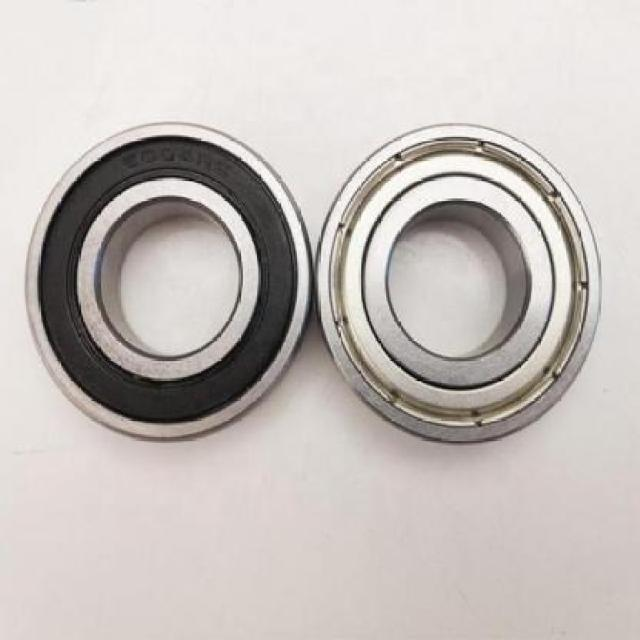Bearing: (19, 119, 316, 446), (313, 120, 605, 448)
